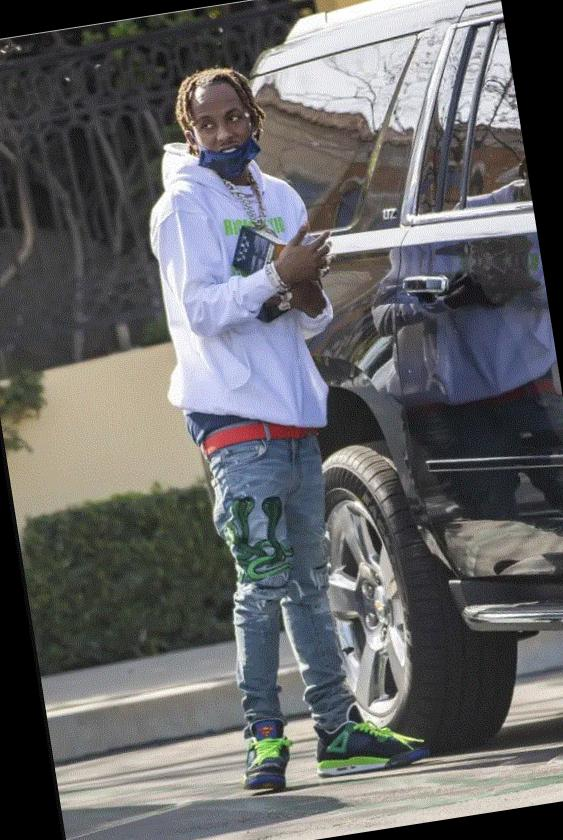mask_weared_incorrect: (192, 94, 258, 176)
